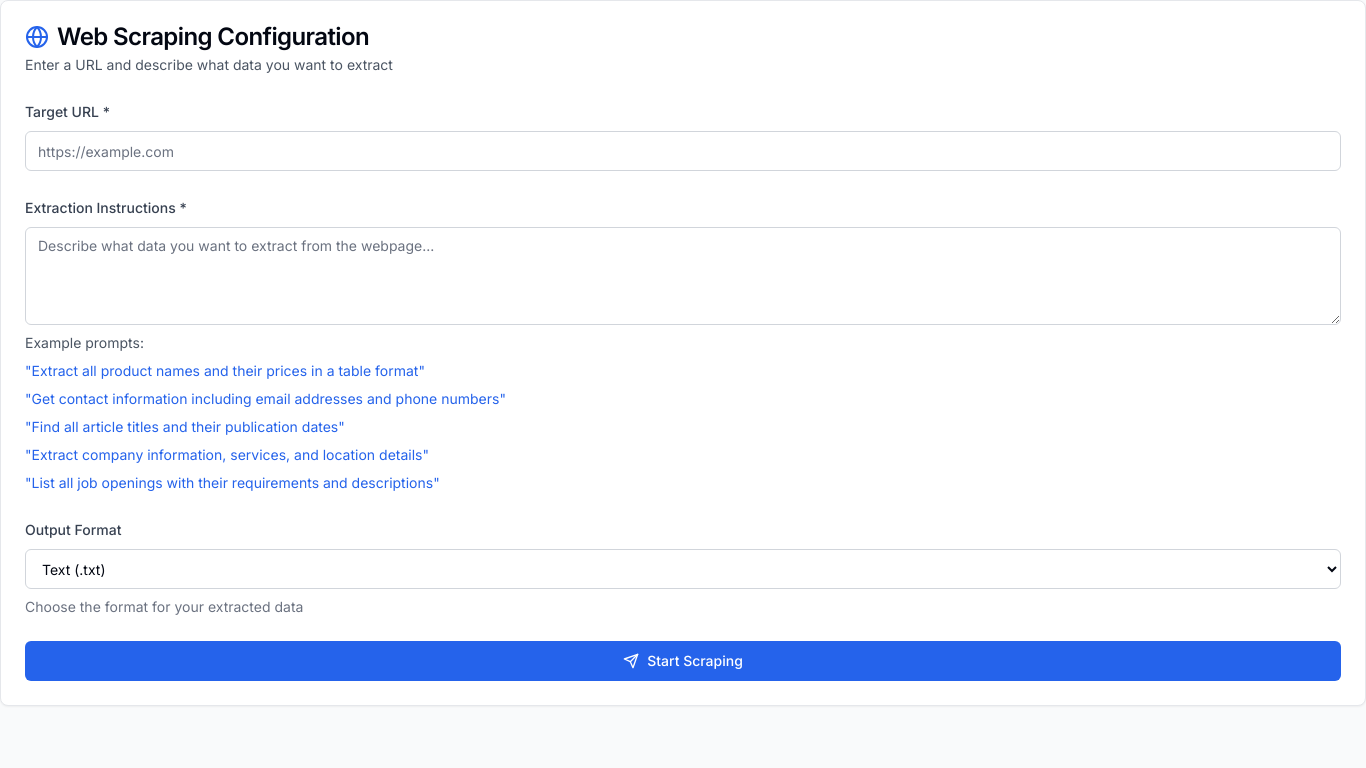
Test case: ScrapeForm › shows validation errors for empty fields
The width and height of the screenshot is (1366, 768).
What coordinates should you click on to do the following:
click the button "Start Scraping"
I would click on:
 (683, 661)
Its box is x1=25 y1=641 x2=1341 y2=681.
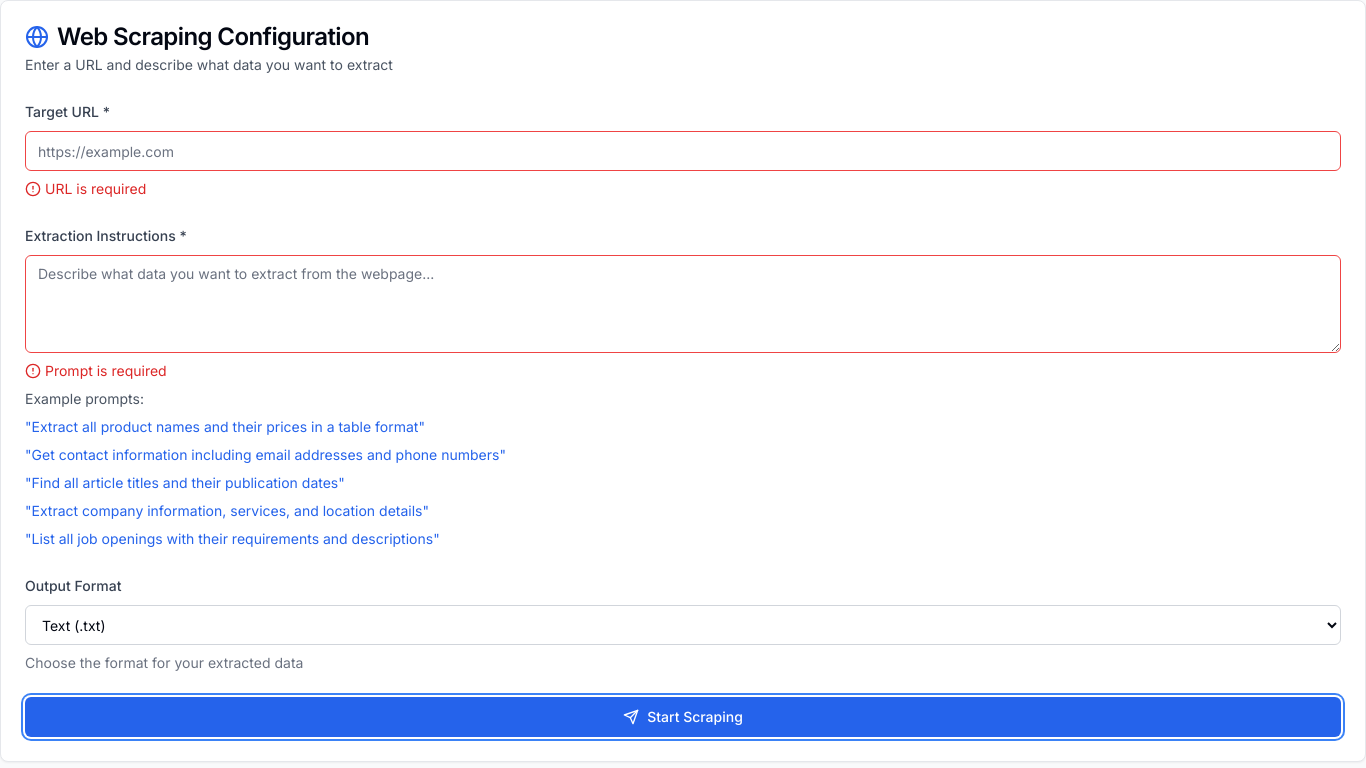
Expected: the text "URL is required" is shown, x1=45 y1=179 x2=146 y2=199
Expected: the text "Prompt is required" is shown, x1=45 y1=361 x2=167 y2=381
